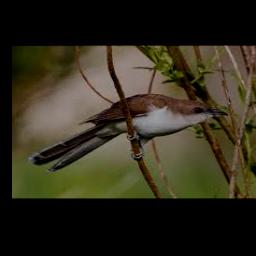Cuckoo: (27, 93, 228, 172)
